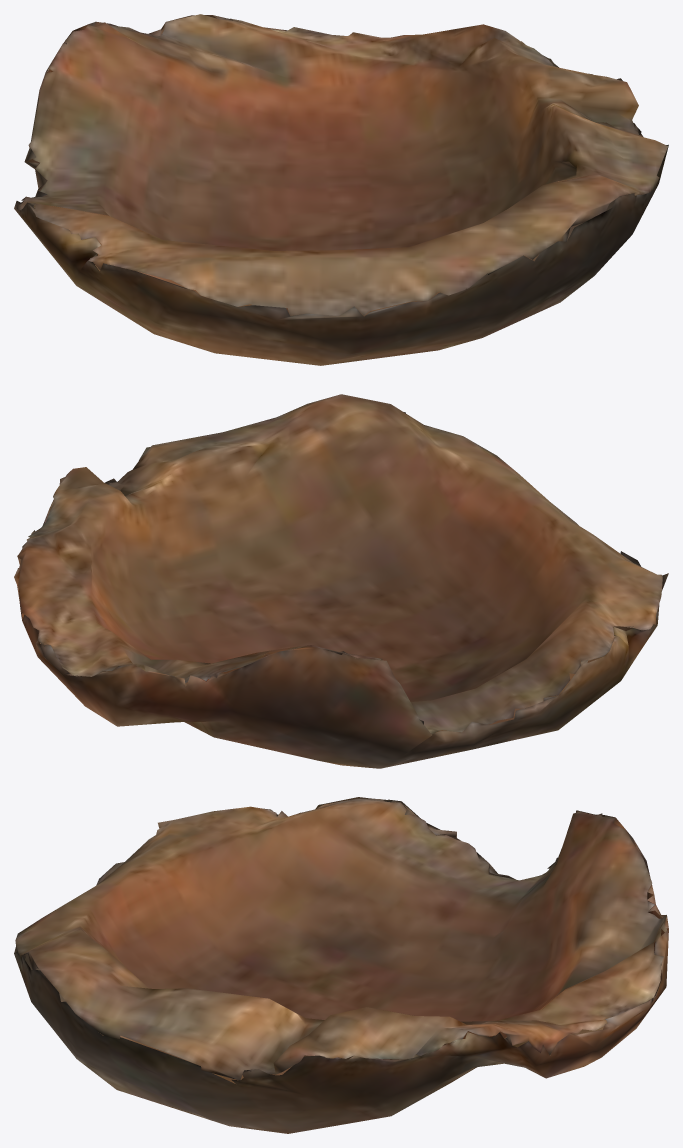
Rendered from bowl_wood.glb.
The picture shows the model from 3 angles, top to bottom: view 1: azimuth 30°, elevation 25°; view 2: azimuth 150°, elevation 25°; view 3: azimuth 270°, elevation 25°; orthographic projection.
Visible parts, largest first — view 1: wooden_bowl_01; view 2: wooden_bowl_01; view 3: wooden_bowl_01.
Boxes of the visible parts, bbox=[...] form: wooden_bowl_01: bbox=[14, 14, 668, 365]; wooden_bowl_01: bbox=[14, 394, 668, 768]; wooden_bowl_01: bbox=[14, 797, 668, 1133].
Bounding box in the file's own units: 0.3134 × 0.0936 × 0.3099.
Materials: 1 (1 with a texture image).
